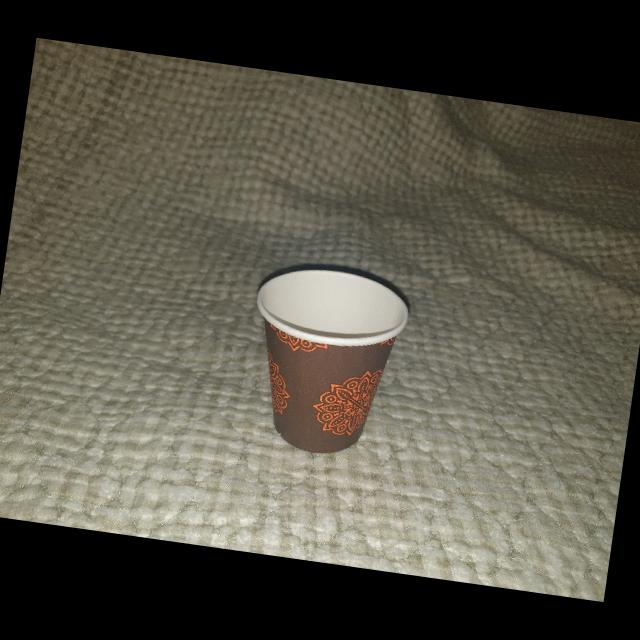trash: (237, 260, 418, 466)
